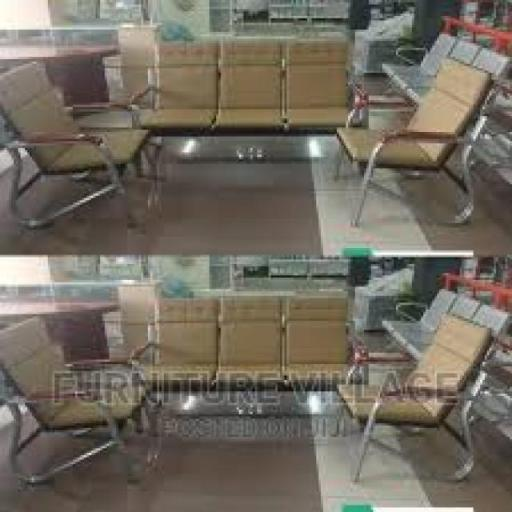sofa: (344, 318, 512, 512), (0, 307, 152, 507), (349, 51, 512, 235), (18, 44, 170, 240)
